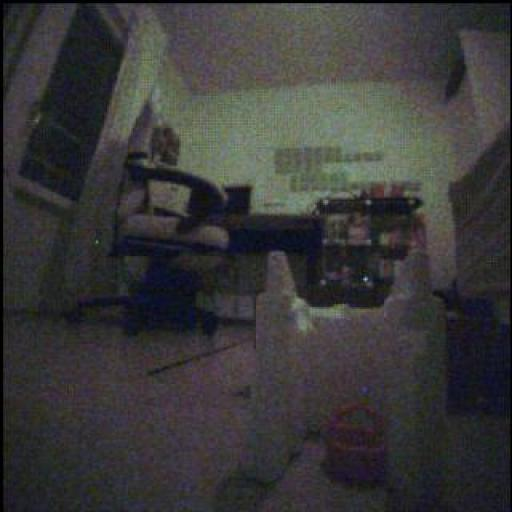basket: (326, 406, 387, 486), (371, 184, 387, 200), (391, 184, 406, 200)
